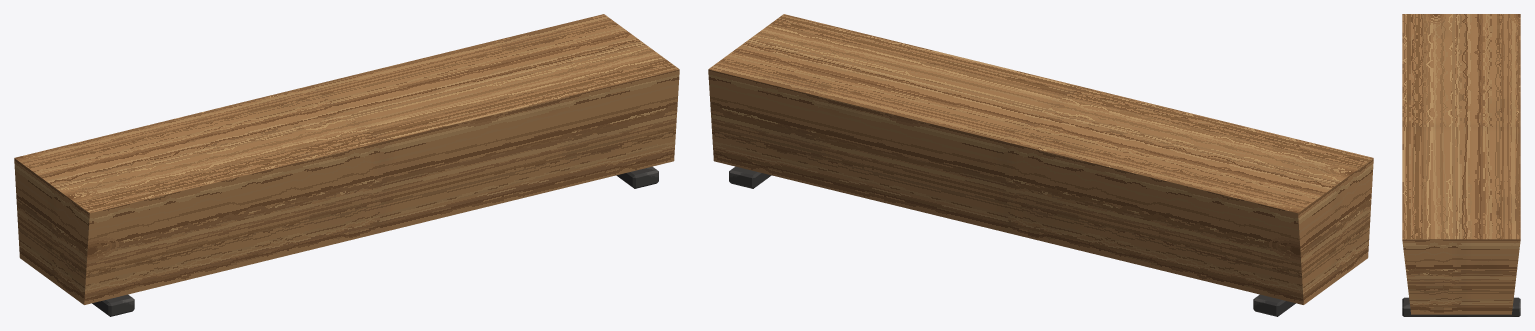
Rendered from window_box.glb.
3 views of the same model, side by side, from view 1: azimuth 30°, elevation 25°; view 2: azimuth 150°, elevation 25°; view 3: azimuth 270°, elevation 25° (orthographic). The views are drawn at different scales.
Parts seen in each view (by area): view 1: p; view 2: p; view 3: p.
Boxes of the visible parts, <box> form: p: <box>14,14,679,316</box>; p: <box>708,14,1373,316</box>; p: <box>1402,14,1520,316</box>.
Size of the model in its own units: 0.9 by 0.16 by 0.2.
3 materials, 3 textured.
